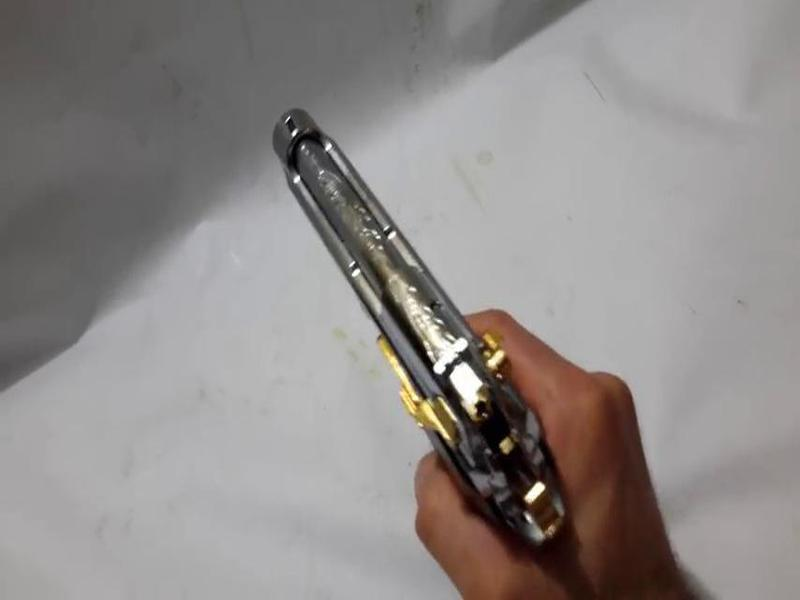Pistola: (259, 79, 579, 593)
